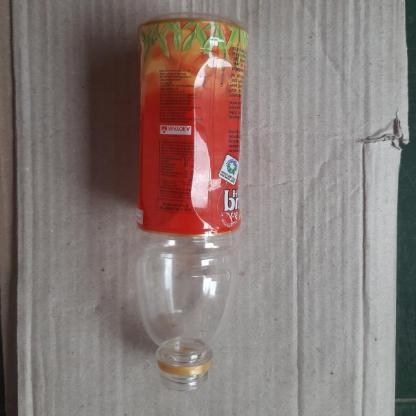Plastic Bottle: (133, 13, 249, 391)
